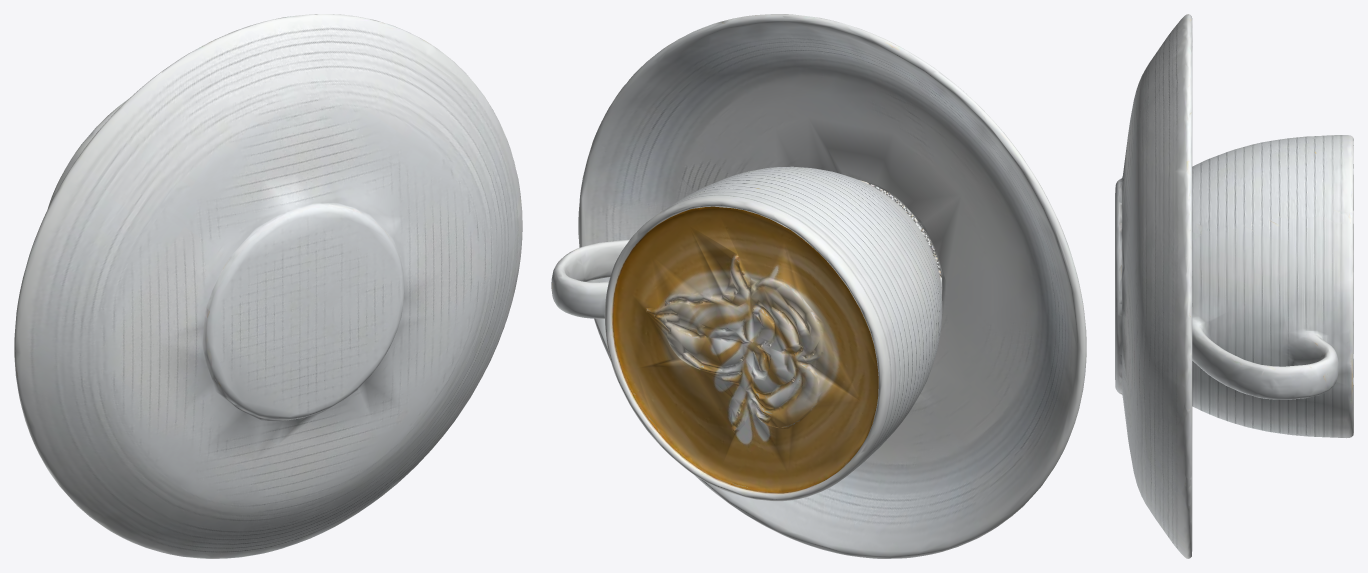
Rendered from flat-white.glb.
3 views of the same model, side by side, from view 1: azimuth 30°, elevation 25°; view 2: azimuth 150°, elevation 25°; view 3: azimuth 270°, elevation 25° (orthographic). The views are drawn at different scales.
Parts seen in each view (by area): view 1: Mesh_0; view 2: Mesh_0; view 3: Mesh_0.
Part boxes in pixels (box(x1,y1,x2,y2)): Mesh_0: box(14, 14, 522, 558); Mesh_0: box(551, 14, 1086, 558); Mesh_0: box(1115, 14, 1353, 558).
Bounding box in the file's own units: 1.91 × 1.91 × 0.8354.
1 material, 1 textured.
